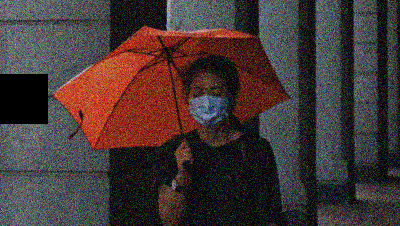with_mask: (187, 84, 231, 128)
